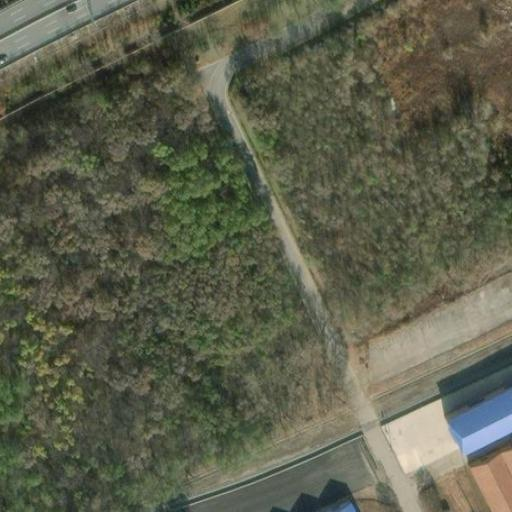building: (440, 383, 512, 453), (312, 495, 360, 512)
